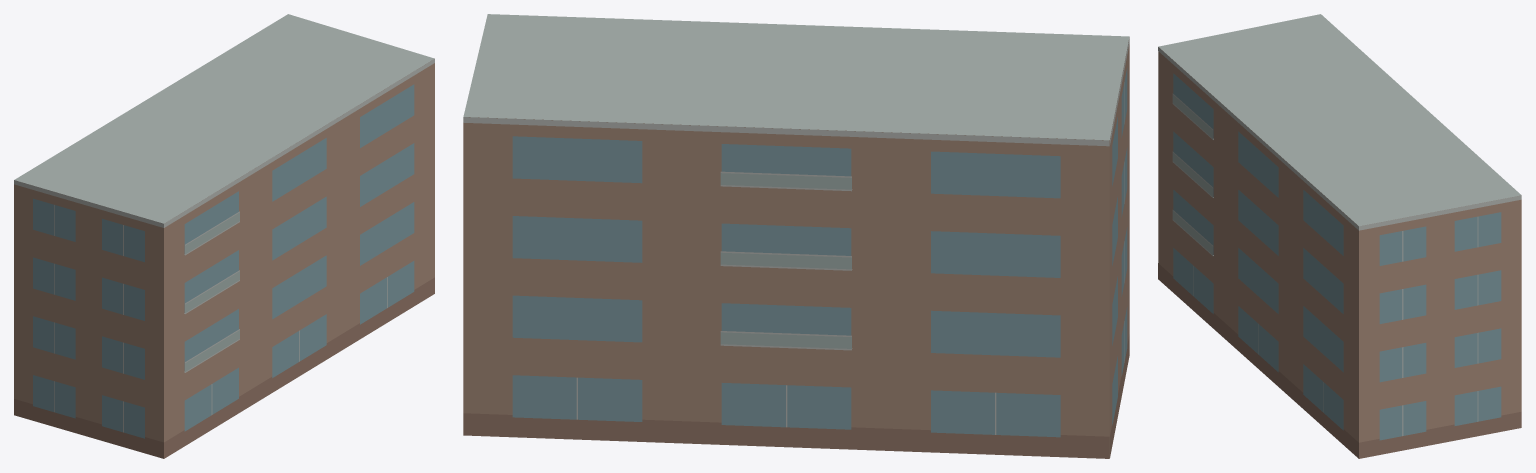
File: survey-upis-32629330.glb
The picture shows the model from 3 angles, left to right: view 1: azimuth 30°, elevation 25°; view 2: azimuth 150°, elevation 25°; view 3: azimuth 270°, elevation 25°; orthographic projection. The views are drawn at different scales.
Parts seen in each view (by area): view 1: survey-upis-32629330.tmp; view 2: survey-upis-32629330.tmp; view 3: survey-upis-32629330.tmp.
Part boxes in pixels (x1,y1,x2,y2): survey-upis-32629330.tmp: (14, 14, 434, 458); survey-upis-32629330.tmp: (463, 14, 1129, 458); survey-upis-32629330.tmp: (1158, 14, 1521, 458).
Bounding box in the file's own units: 25.66 × 13.1 × 18.57.
